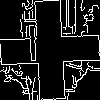I: (25, 25, 41, 71)
